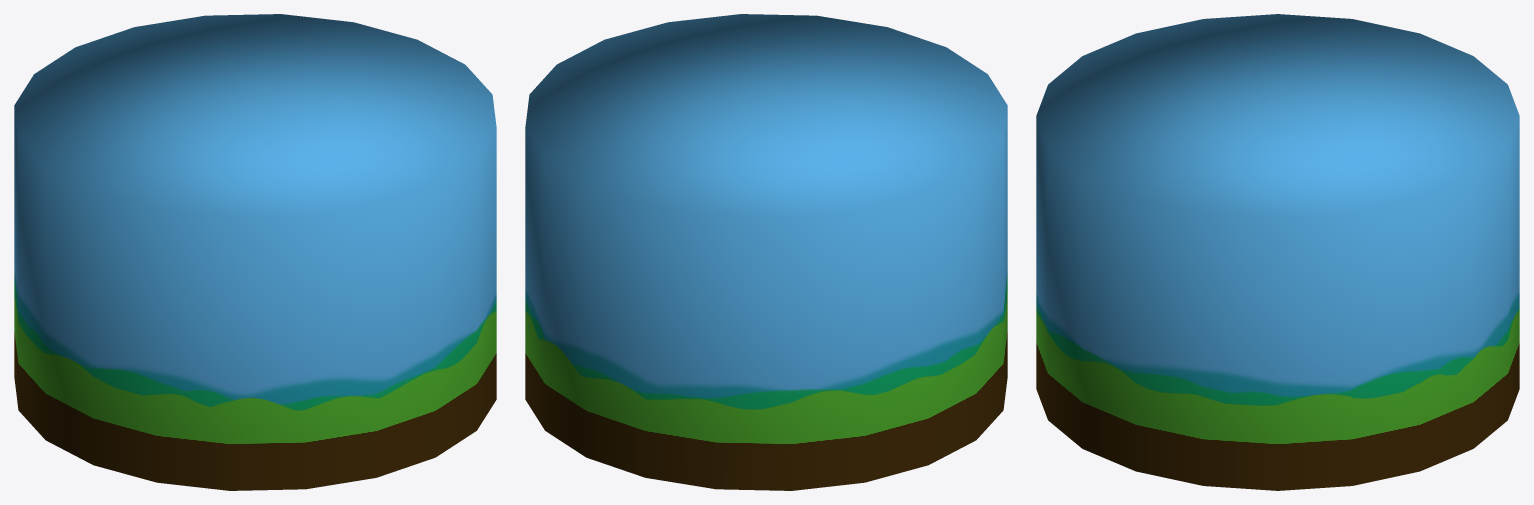
File: OBJ_Spring.fbx
The picture shows the model from 3 angles, left to right: view 1: azimuth 30°, elevation 25°; view 2: azimuth 150°, elevation 25°; view 3: azimuth 270°, elevation 25°; orthographic projection.
Parts seen in each view (by area): view 1: OBJ_Background; view 2: OBJ_Background; view 3: OBJ_Background.
Boxes of the visible parts, left/top/right/bottom form: OBJ_Background: left=14, top=14, right=496, bottom=490; OBJ_Background: left=525, top=14, right=1007, bottom=490; OBJ_Background: left=1036, top=14, right=1519, bottom=490.
Size of the model in its own units: 904 by 563 by 904.
Materials: 10 (10 with a texture image).
